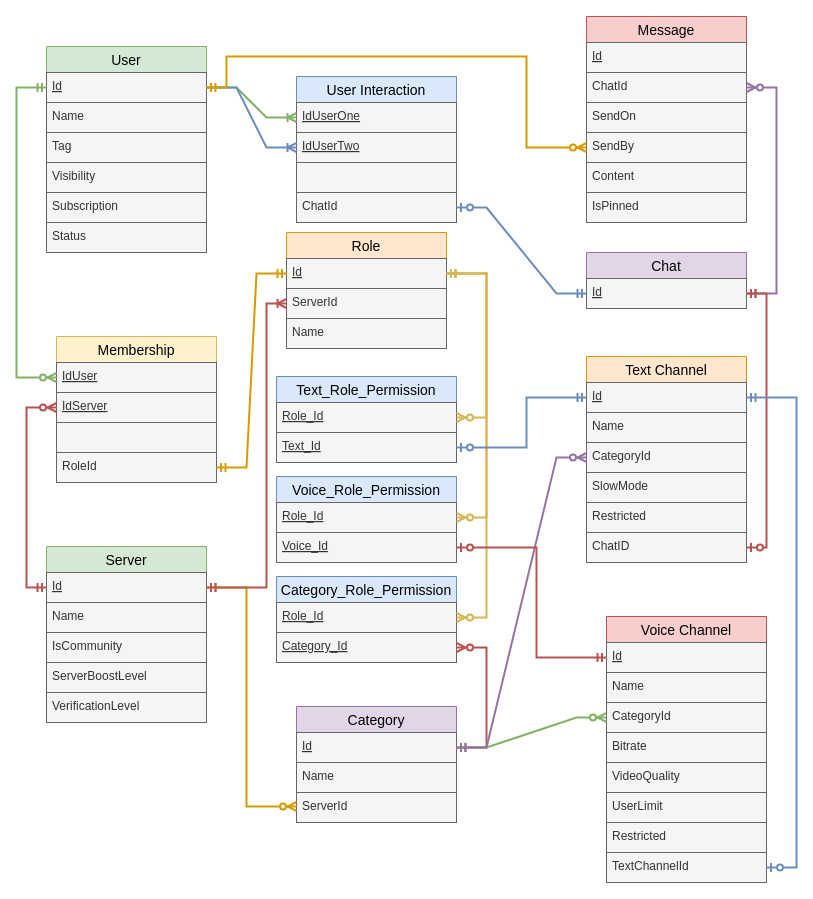
Image size: 813x899. Some labels were removed from this diagram. Each missing label, with the centre of its shape:
"FriendStatus" belongs at (376,177).
"Nickname" belongs at (136,437).
